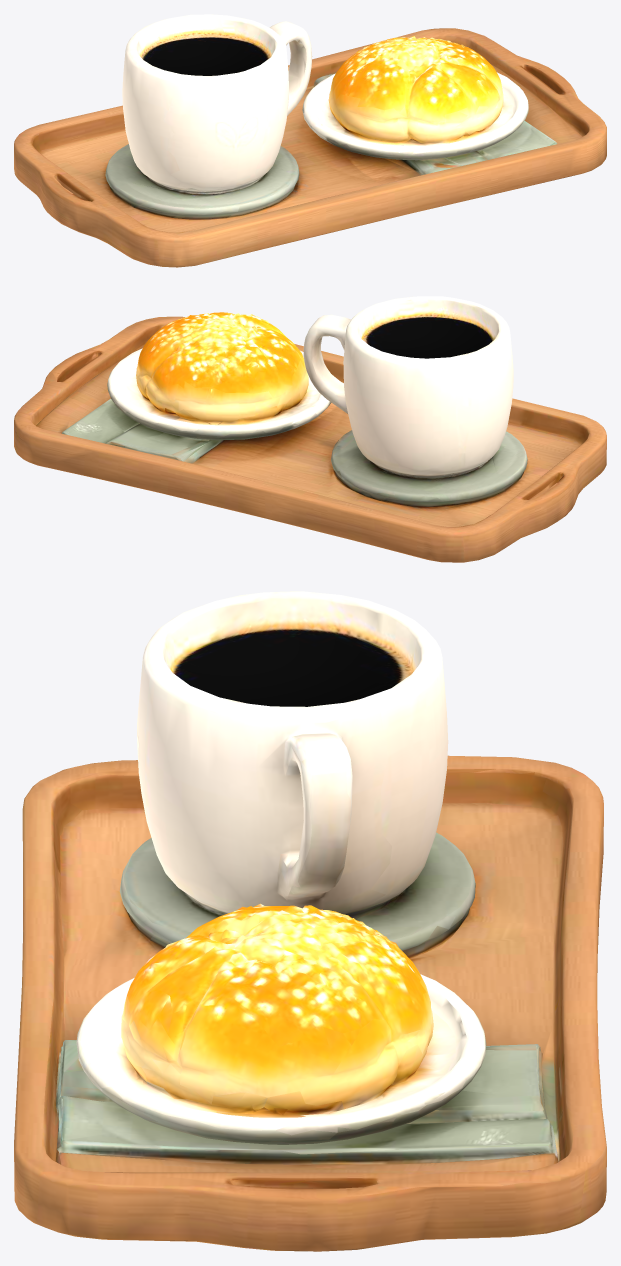
Rendered from cafe-bolleria.glb.
3 renders of one model, top to bottom at view 1: azimuth 30°, elevation 25°; view 2: azimuth 150°, elevation 25°; view 3: azimuth 270°, elevation 25°, orthographic. The views are drawn at different scales.
Parts seen in each view (by area): view 1: node_0.006; view 2: node_0.006; view 3: node_0.006.
Part boxes in pixels (x1,y1,x2,y2): node_0.006: (14,14,606,267); node_0.006: (14,296,606,562); node_0.006: (14,591,606,1251).
Bounding box in the file's own units: 0.6026 × 0.17 × 0.332.
Materials: 1 (1 with a texture image).
